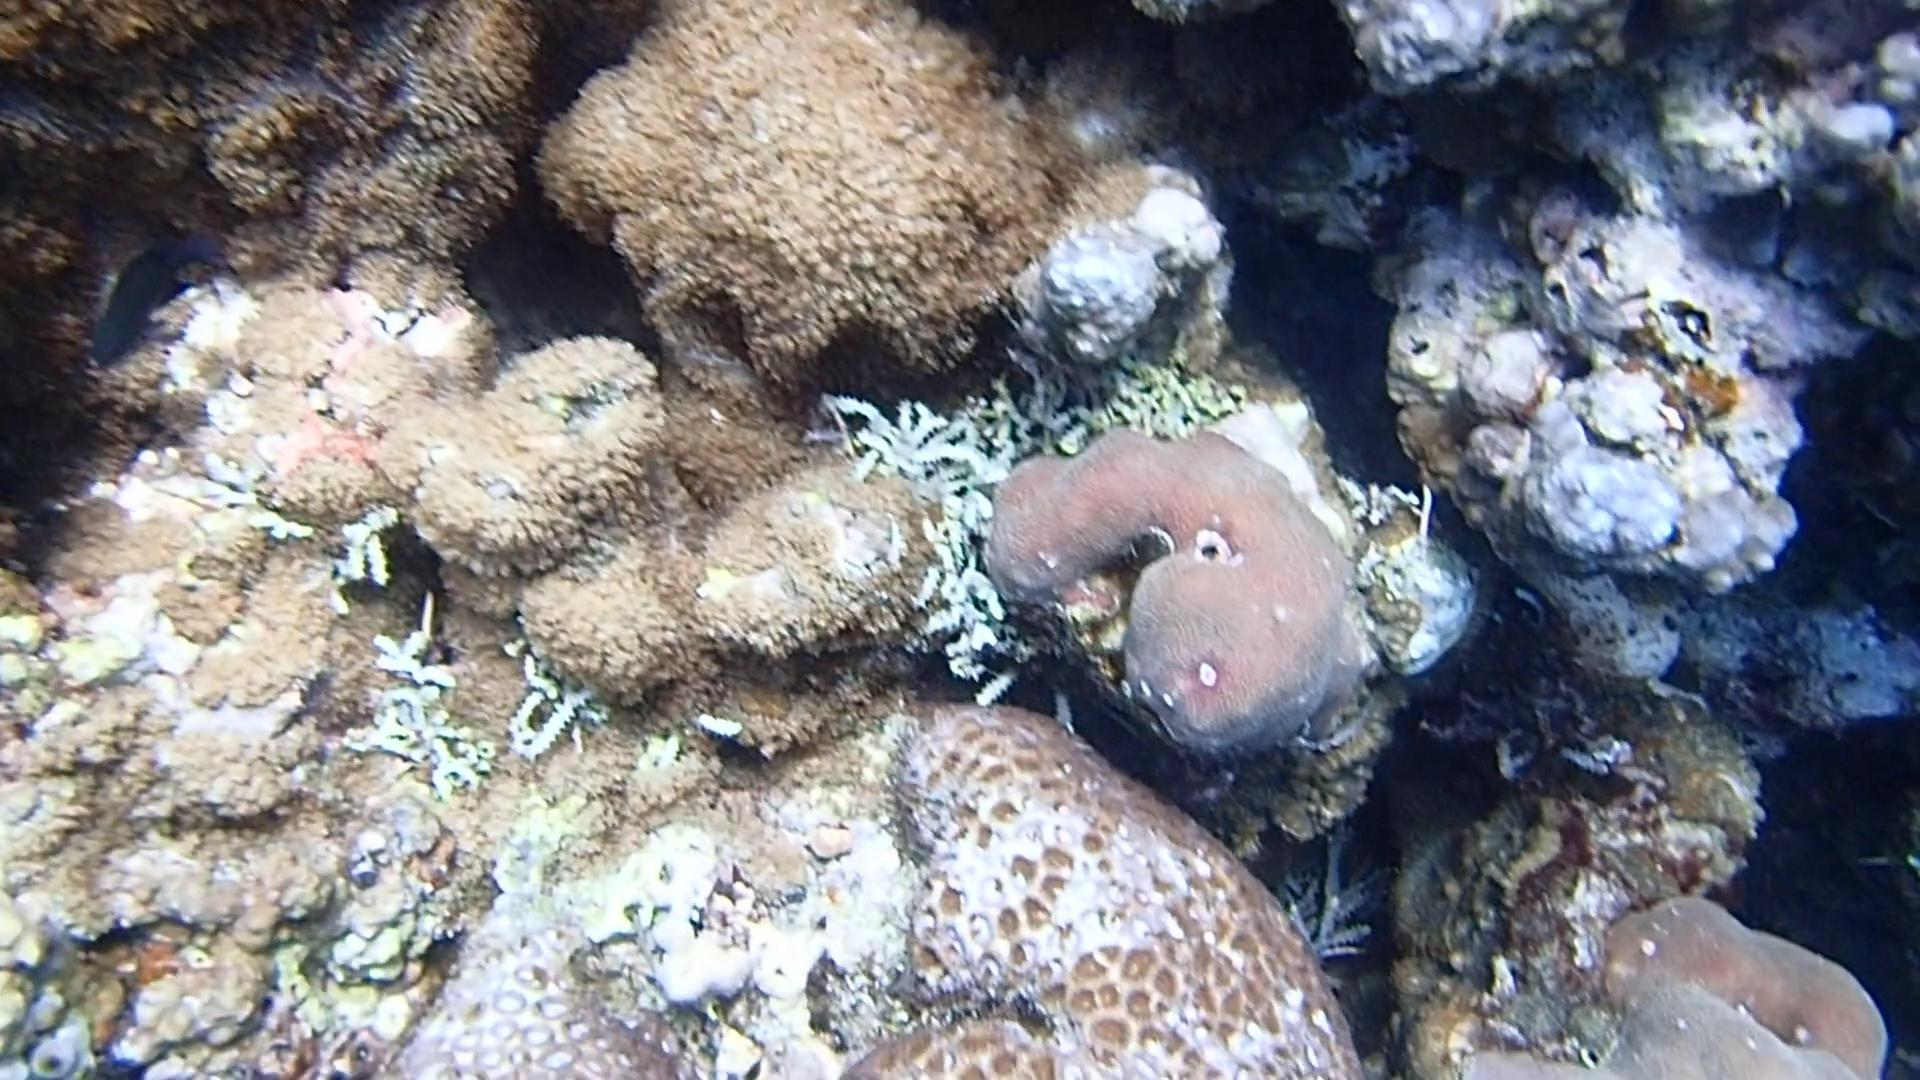Dark Fish: (78, 215, 216, 375)
